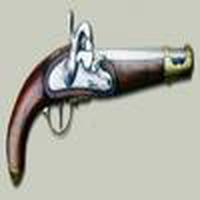gun: (5, 42, 199, 192)
